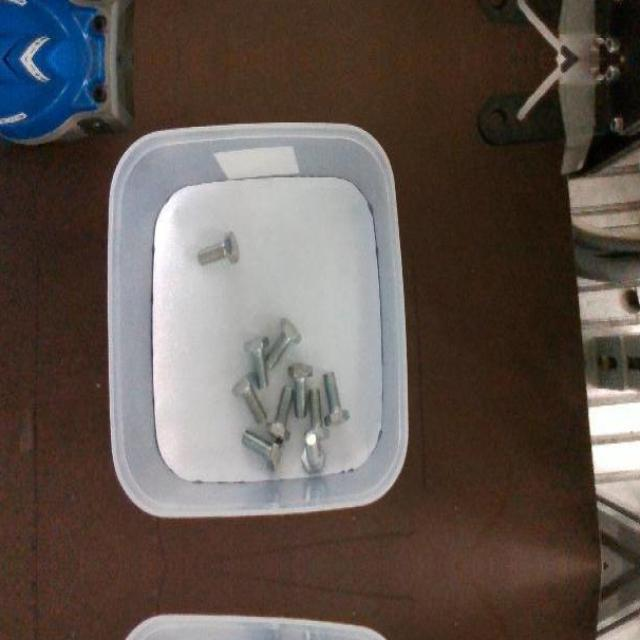screw: (264, 316, 302, 368), (231, 371, 266, 423), (242, 429, 284, 469), (322, 369, 350, 425), (198, 230, 240, 266), (266, 386, 293, 440), (243, 335, 269, 388), (288, 364, 313, 418), (301, 431, 326, 473)
